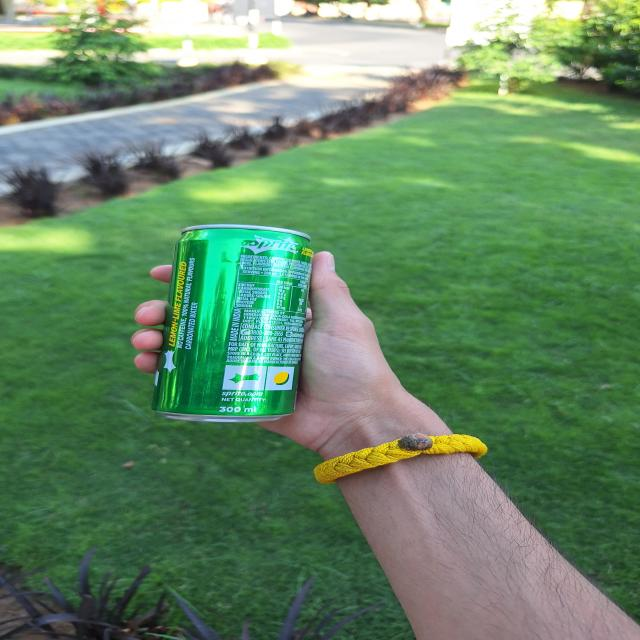Sprite: (155, 221, 309, 421)
